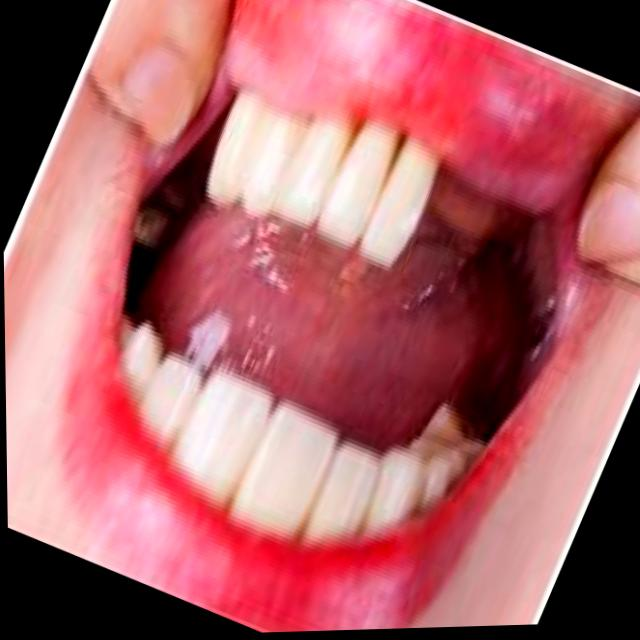hypodontia: (160, 95, 541, 291)
